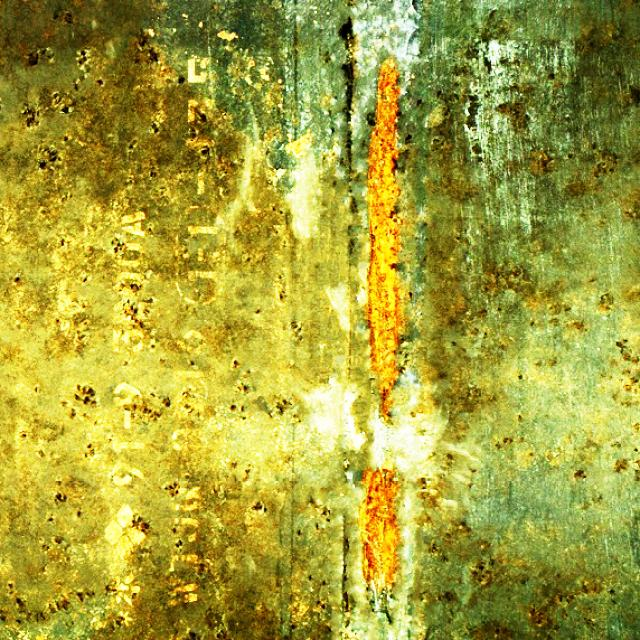Corrosion: (367, 56, 405, 422), (360, 463, 399, 606)
